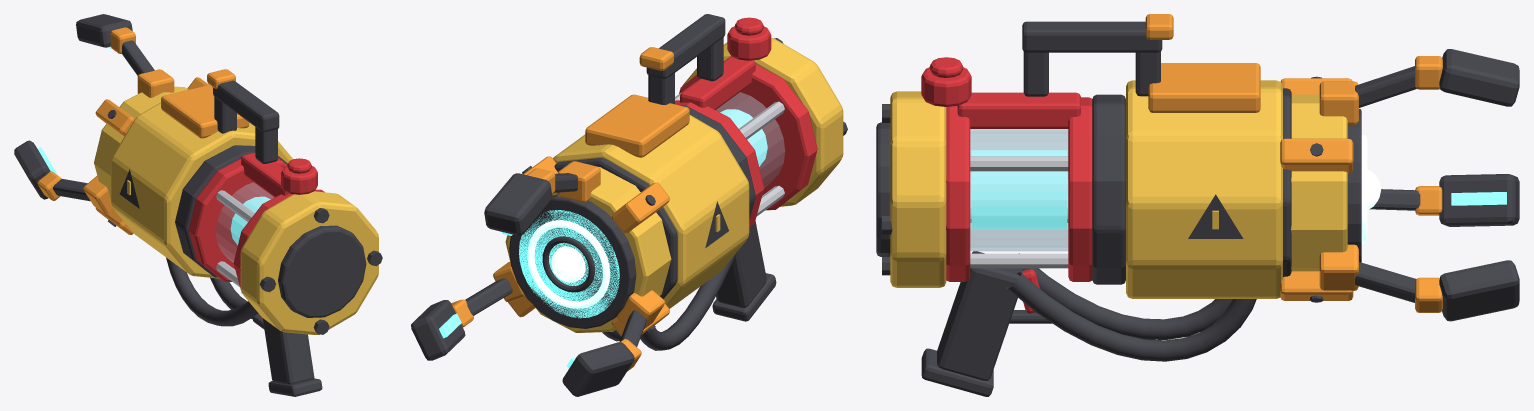
File: gravity_gun.glb
The picture shows the model from 3 angles, left to right: view 1: azimuth 30°, elevation 25°; view 2: azimuth 150°, elevation 25°; view 3: azimuth 270°, elevation 25°; orthographic projection. The views are drawn at different scales.
Parts seen in each view (by area): view 1: Drum, EndCap, EndPlate, CellFront, Grip, Band, TopPlate, Hose0, FrontRing, CellTube, HandleBar, Tip (+18 smaller); view 2: Drum, FrontRim, CellBack, EndCap, CoreDisc, FrontRing, TopPlate, Tip, Tip.001, CellTube, Grip, Hose0 (+26 smaller); view 3: Drum, EndCap, CellTube, FrontRing, Band, Grip, CellGlow, Hose1, TopPlate, CellFront, CellBack, HandleBar (+30 smaller).
Part boxes in pixels (x1,y1,x2,y2): Drum: (111,102,292,278); EndCap: (240,191,378,334); EndPlate: (278,225,366,317); CellFront: (188,158,287,281); Grip: (262,318,314,384); Band: (175,145,287,277); TopPlate: (161,85,249,138); Hose0: (166,257,257,326); FrontRing: (94,86,188,199); CellTube: (216,182,273,262); HandleBar: (213,80,279,131); Tip: (76,14,132,47); Drum: (553,115,749,308); FrontRim: (509,194,636,328); CellBack: (679,64,817,210); EndCap: (682,38,843,206); CoreDisc: (519,210,619,318); FrontRing: (505,167,671,332); TopPlate: (585,94,689,157); Tip: (484,173,552,235); Tip.001: (562,342,634,396); CellTube: (716,92,784,187); Grip: (716,221,766,307); Hose0: (640,252,736,350); Drum: (1126,80,1282,298); EndCap: (890,91,946,287); CellTube: (970,129,1068,251); FrontRing: (1291,94,1347,271); Band: (1092,94,1125,284); Grip: (937,251,1022,380); CellGlow: (971,150,1066,228); Hose1: (1006,272,1256,361); TopPlate: (1148,63,1260,112); CellFront: (1068,97,1092,281); CellBack: (946,106,970,281); HandleBar: (1022,21,1162,52).
Size of the model in its own units: 0.4876 by 0.7262 by 1.15.
